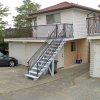stairs: (23, 40, 66, 82)
